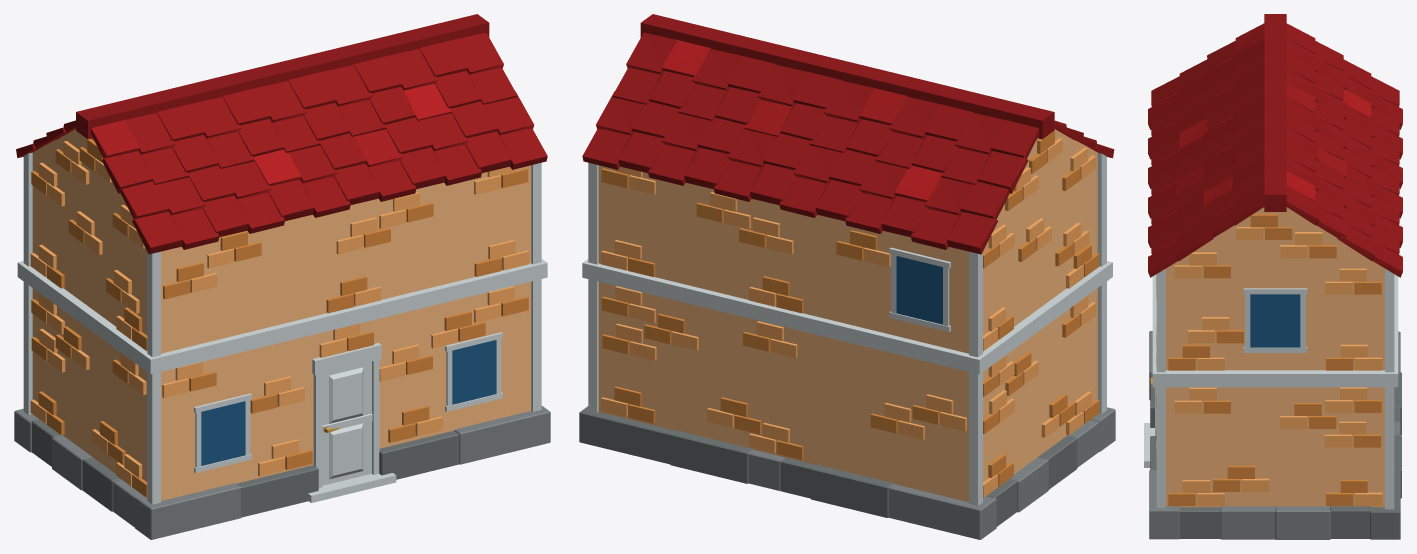
The model's file is SM_House_7.FBX.
3 renders of one model, left to right at view 1: azimuth 30°, elevation 25°; view 2: azimuth 150°, elevation 25°; view 3: azimuth 270°, elevation 25°, orthographic. The views are drawn at different scales.
Visible parts, largest first — view 1: SM_House_7; view 2: SM_House_7; view 3: SM_House_7.
Part boxes in pixels (x1,y1,x2,y2): SM_House_7: (14,14,550,539); SM_House_7: (579,14,1115,539); SM_House_7: (1144,14,1402,539).
Size of what is drawn, in the model's own units: 814 by 491 by 722.
